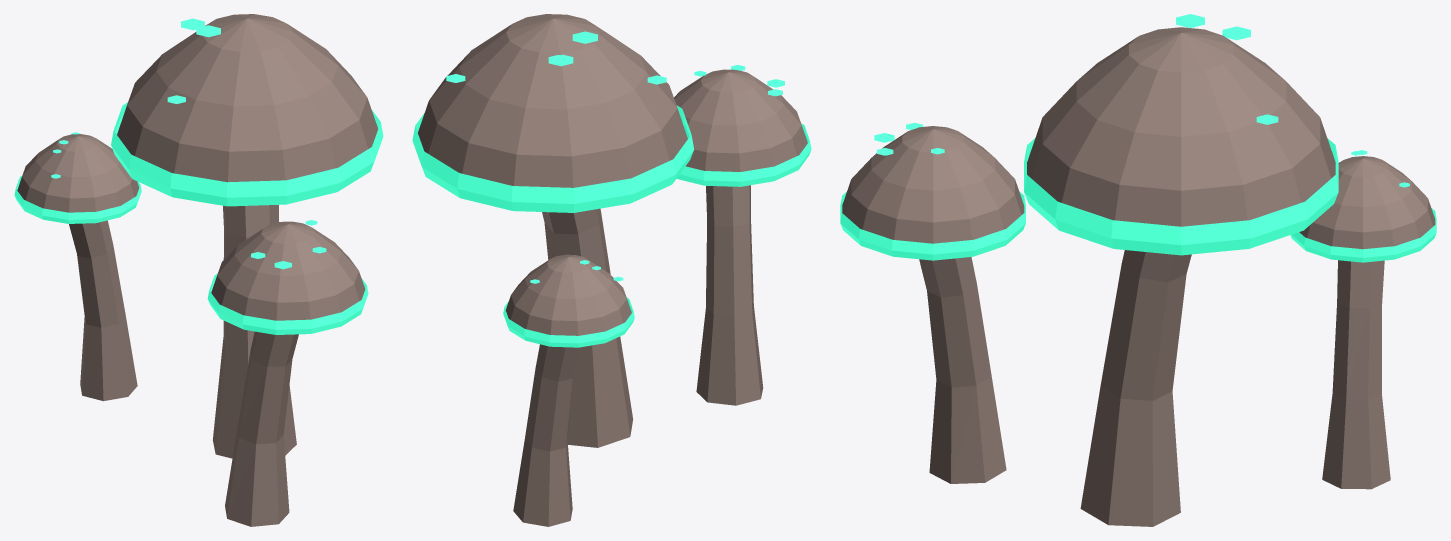
File: cap_v01.glb
3 views of the same model, side by side, from view 1: azimuth 30°, elevation 25°; view 2: azimuth 150°, elevation 25°; view 3: azimuth 270°, elevation 25° (orthographic). The views are drawn at different scales.
Visible parts, largest first — view 1: mushroom_cap_flesh_nocol, mushroom_cap_glow_nocol; view 2: mushroom_cap_flesh_nocol, mushroom_cap_glow_nocol; view 3: mushroom_cap_flesh_nocol, mushroom_cap_glow_nocol.
Boxes of the visible parts, x1=… form: mushroom_cap_flesh_nocol: x1=17, y1=14, x2=377, y2=526; mushroom_cap_glow_nocol: x1=14, y1=18, x2=383, y2=334; mushroom_cap_flesh_nocol: x1=418, y1=14, x2=807, y2=526; mushroom_cap_glow_nocol: x1=412, y1=31, x2=811, y2=347; mushroom_cap_flesh_nocol: x1=842, y1=27, x2=1435, y2=526; mushroom_cap_glow_nocol: x1=840, y1=14, x2=1436, y2=262.
Bounding box in the file's own units: 1.3 × 1.92 × 2.14.
